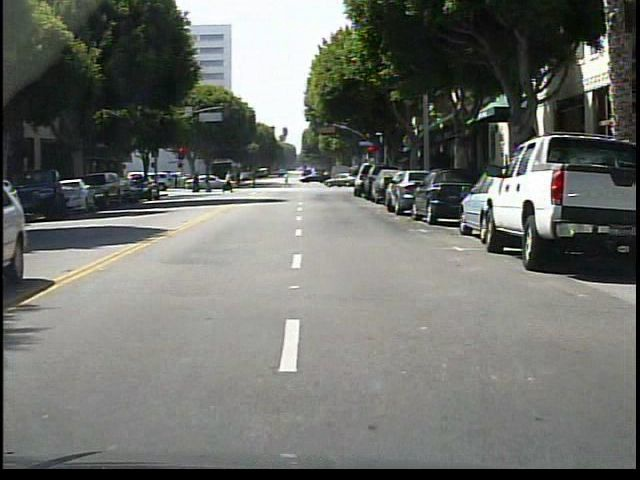person: (222, 166, 242, 196)
